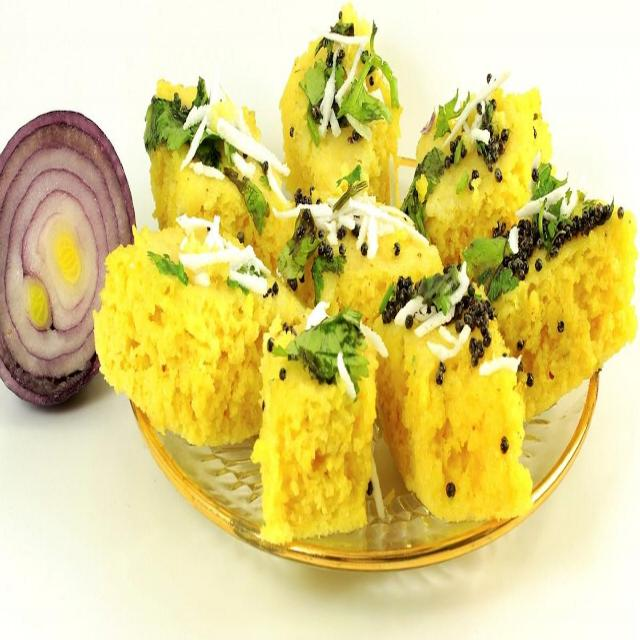dhokla: (124, 29, 631, 546)
